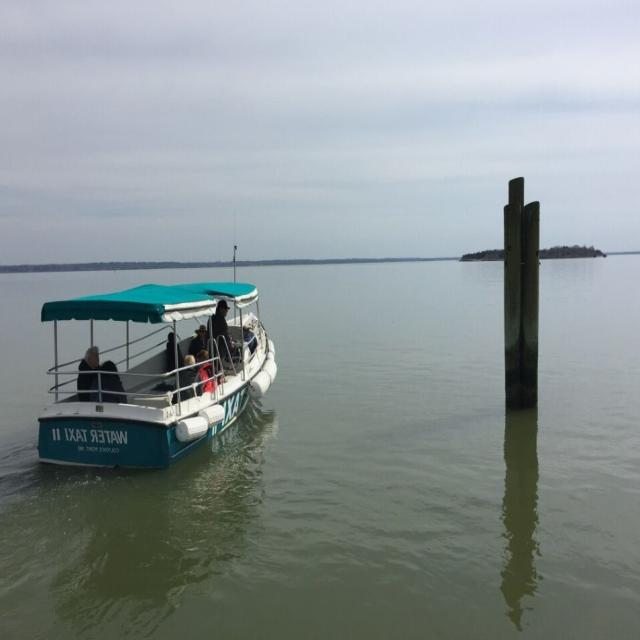passenger ship: (44, 272, 284, 480)
